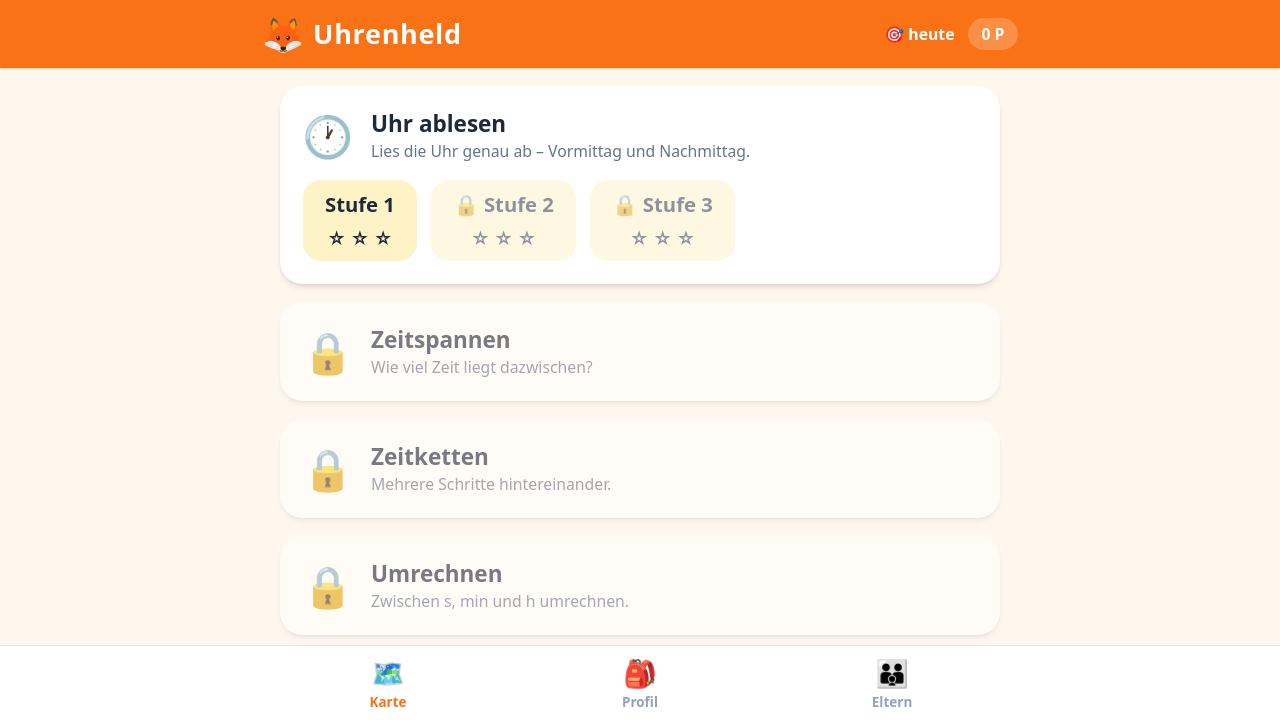
App shell › shows the header and the level map, and can switch to the parent view
expect the heading "Uhrenheld" is shown: met, box [313, 16, 462, 52]
expect the element named "Station Uhr ablesen" is shown: met, box [280, 86, 1000, 284]
Step 1. Click the button "👪 Eltern" → (892, 683), box [766, 646, 1018, 719]
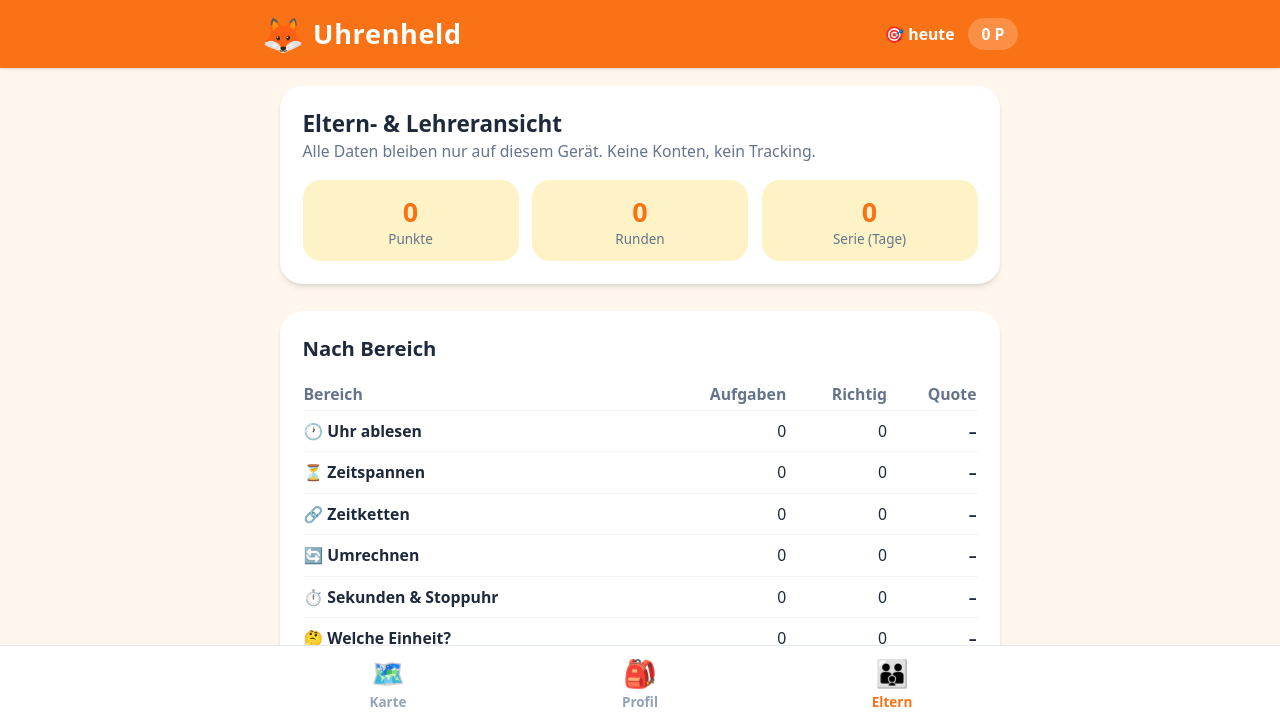
expect the heading "Eltern- & Lehreransicht" is shown: met, box [302, 108, 562, 139]
